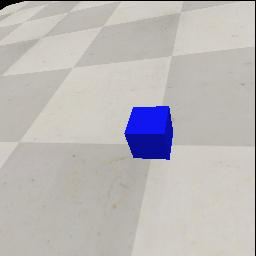box: (124, 106, 173, 160)
